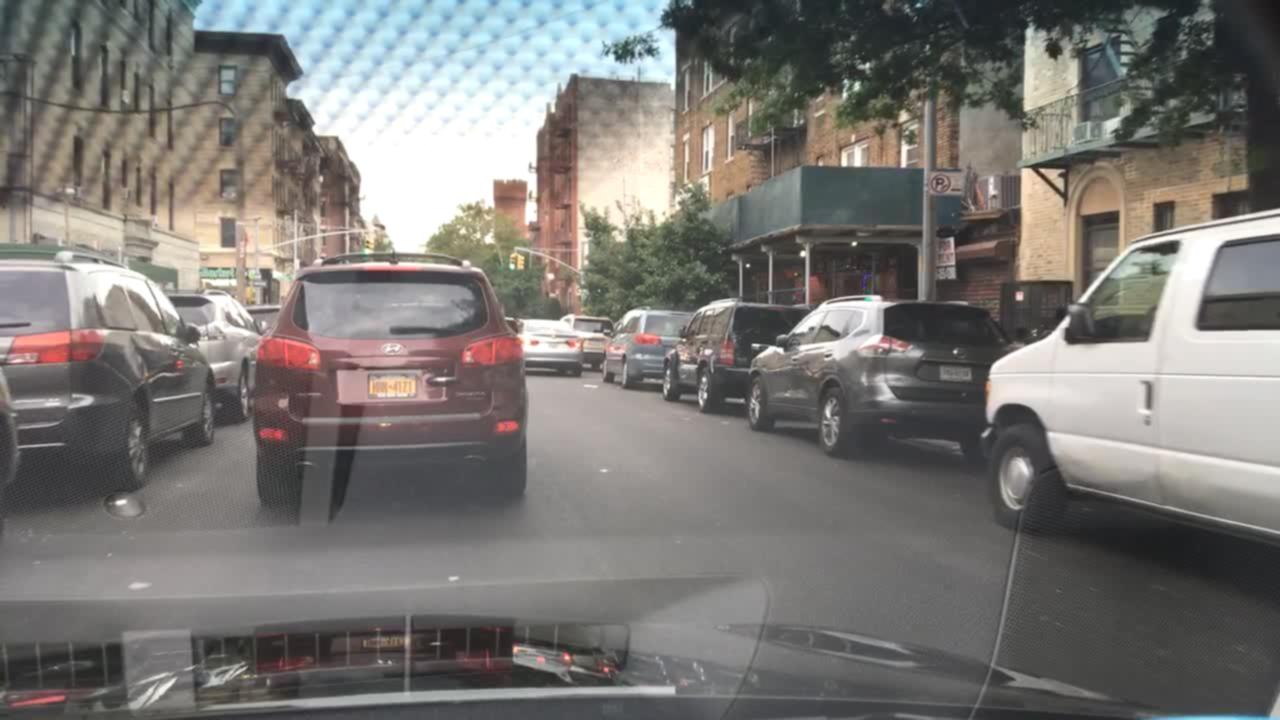Hyundai: (378, 339, 408, 359)
